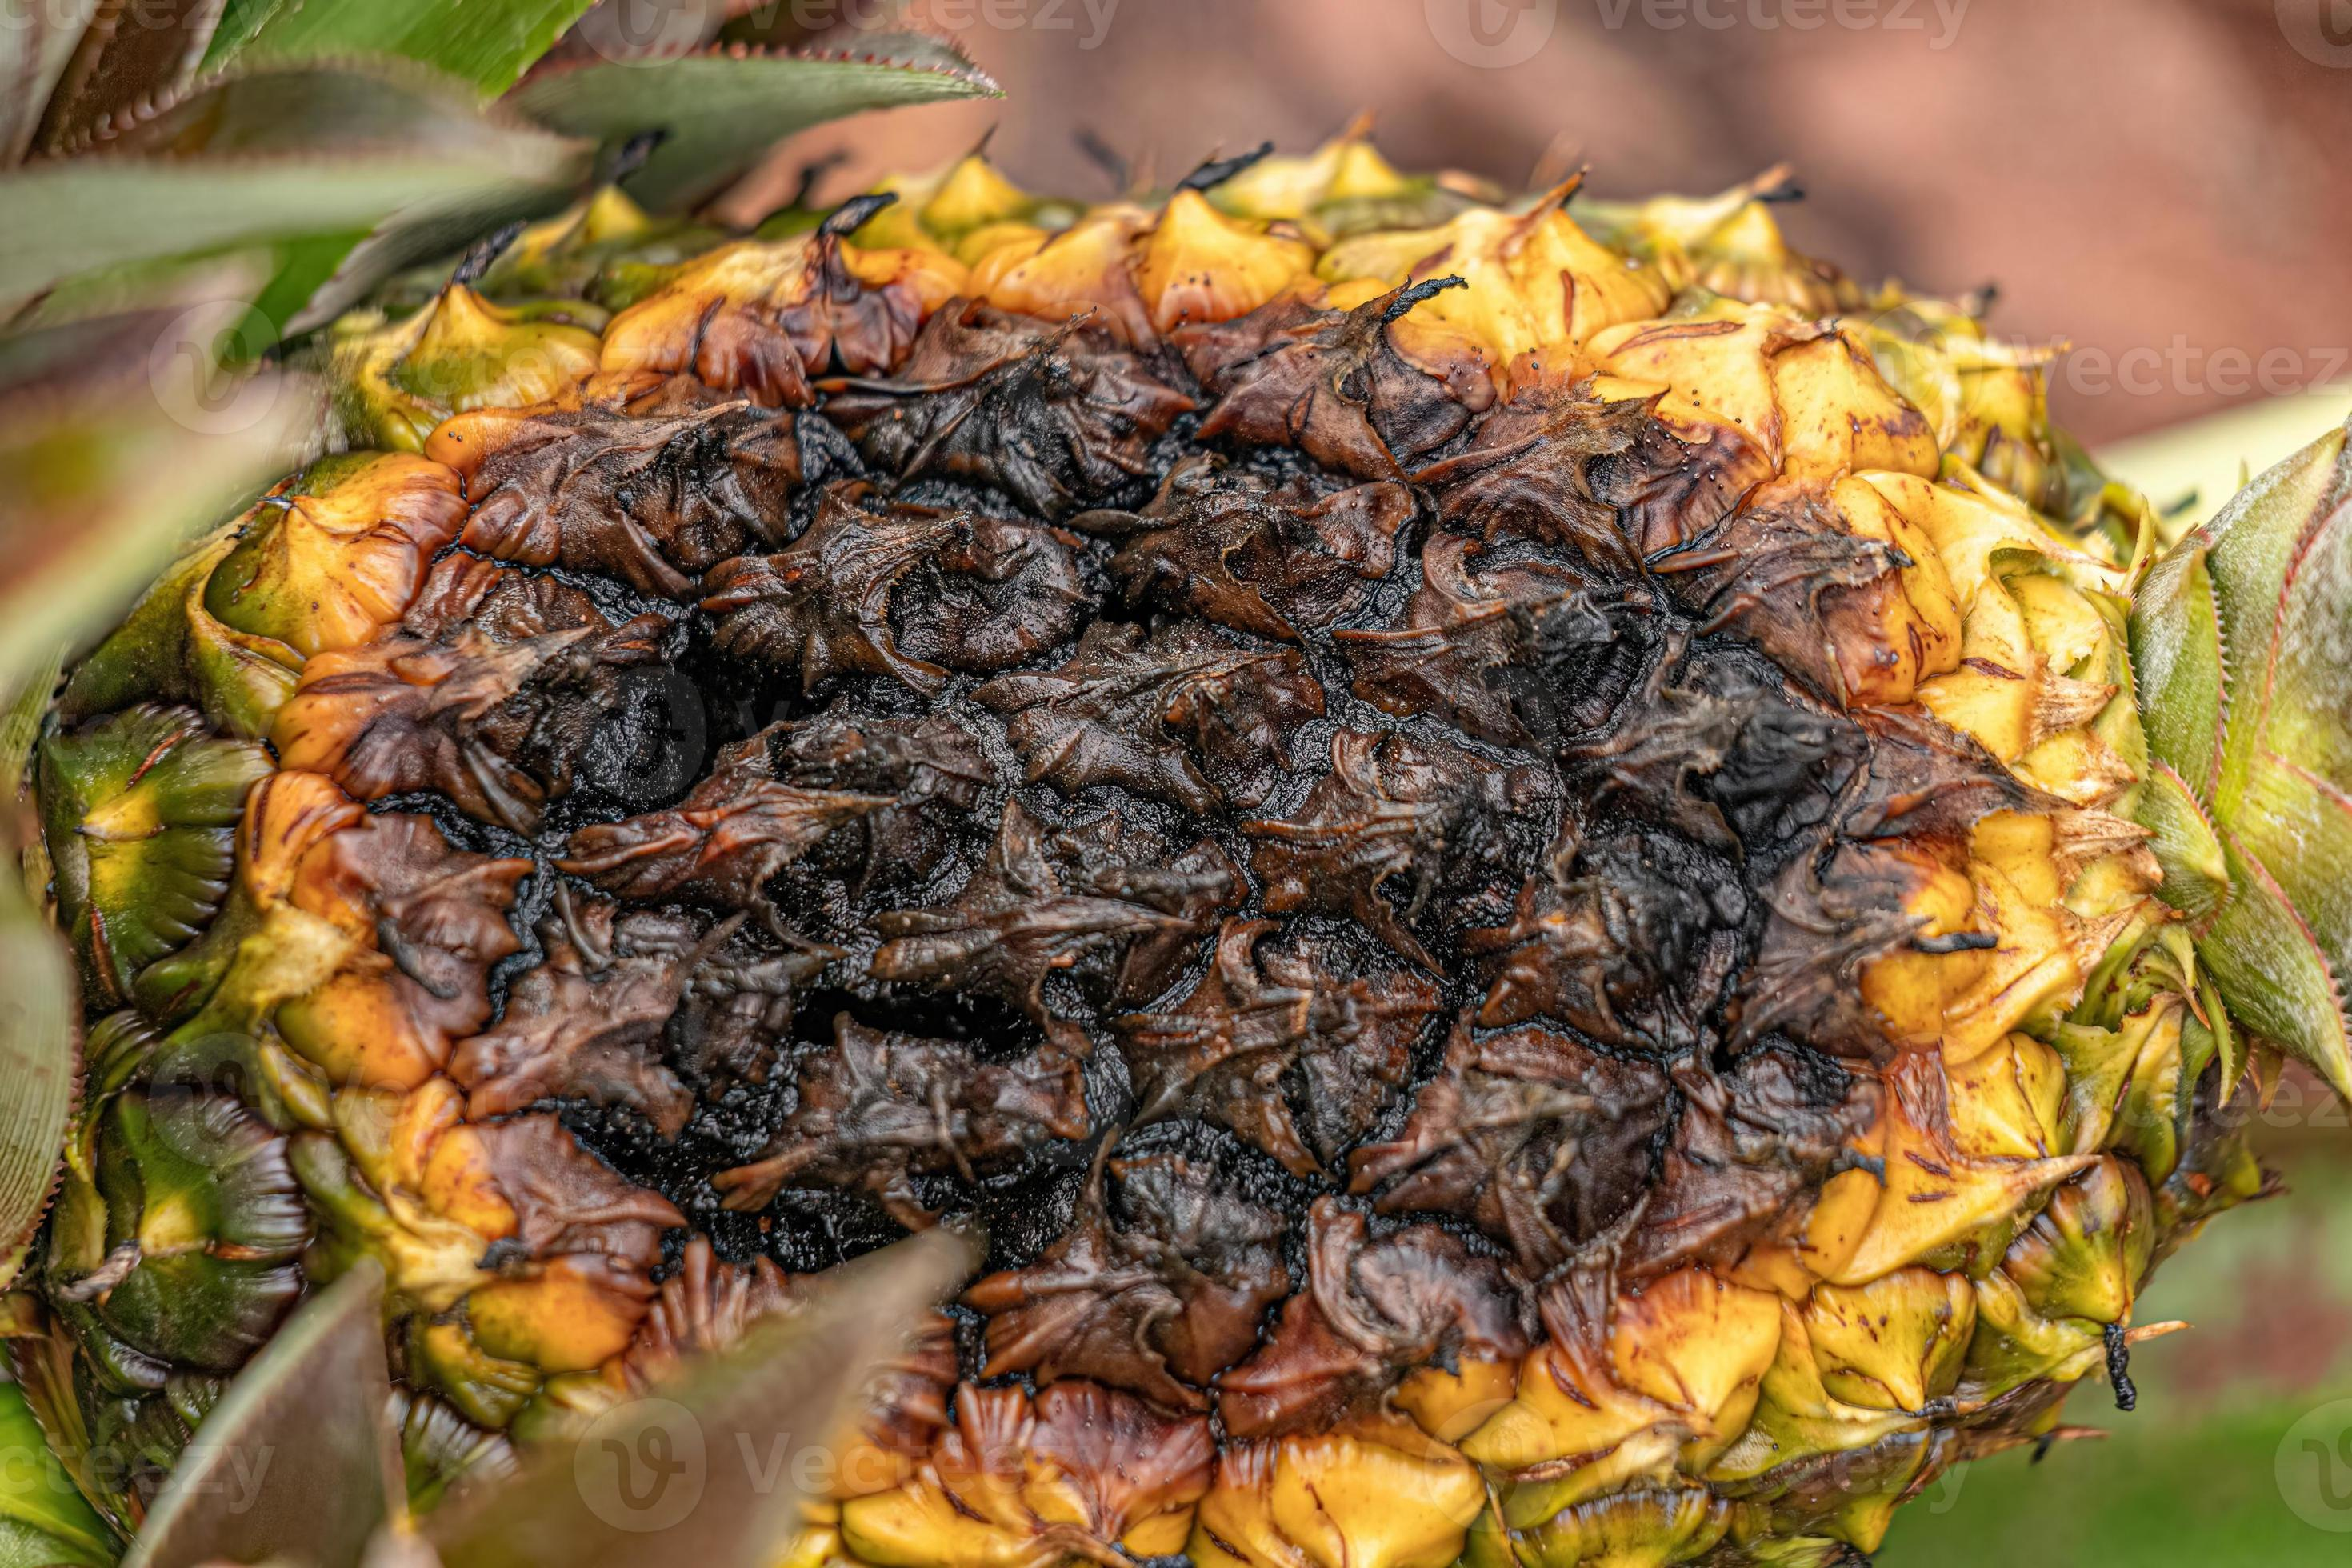rotten pineapple: (93, 261, 2296, 1554)
